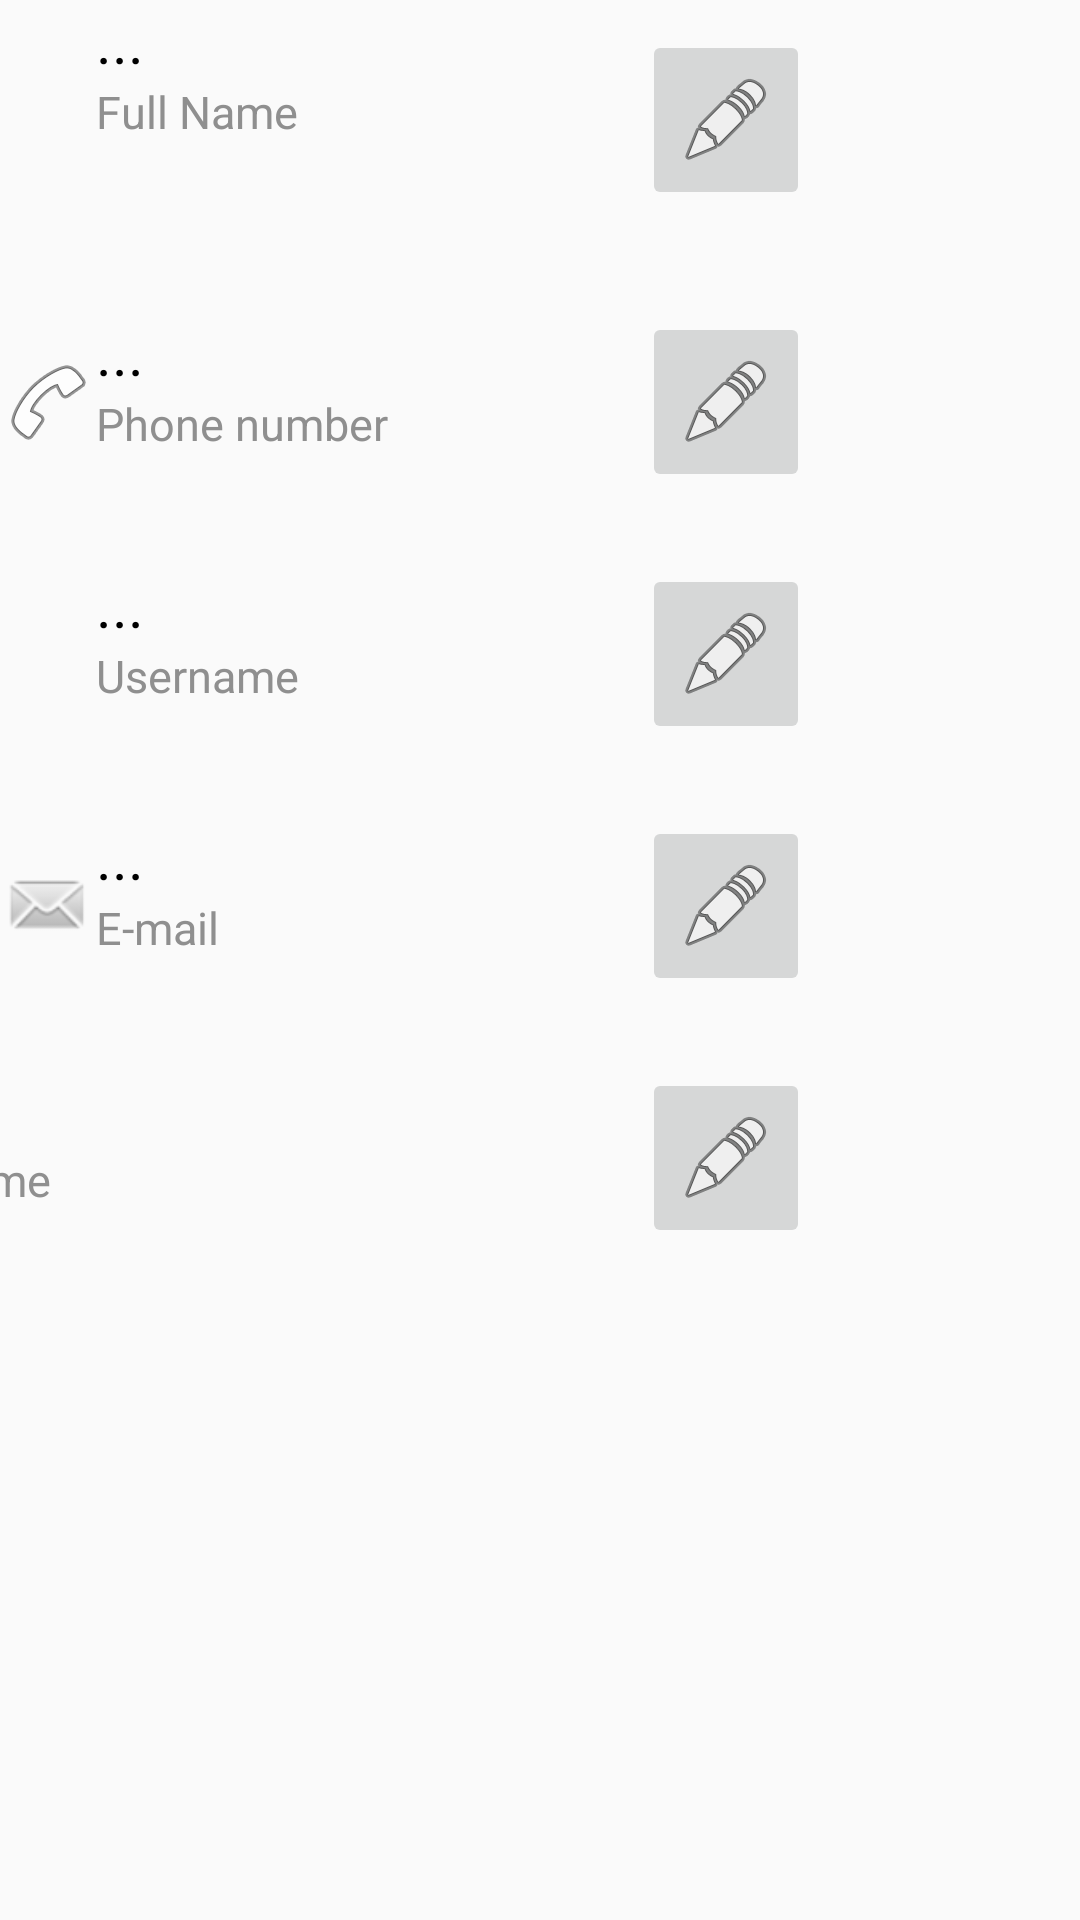

Icons on this 1080x1920 Android screen, each with the point to tap as point (x, y):
Edit phone: point (726, 402)
